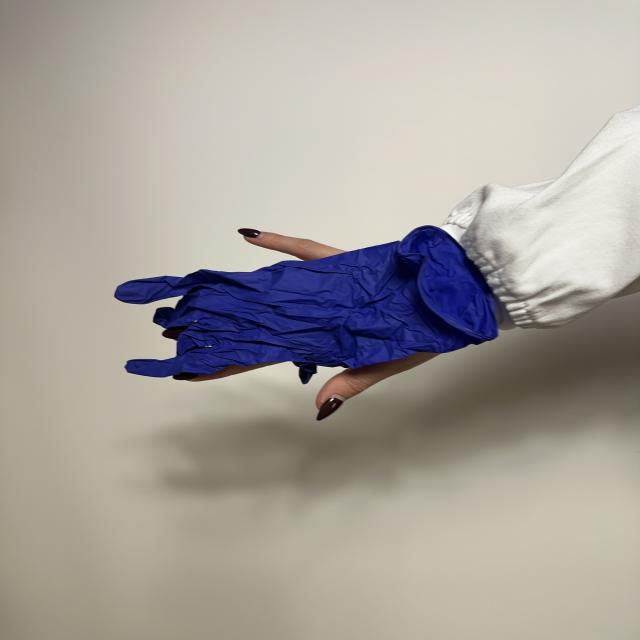glove_not_fitted: (116, 227, 498, 420)
